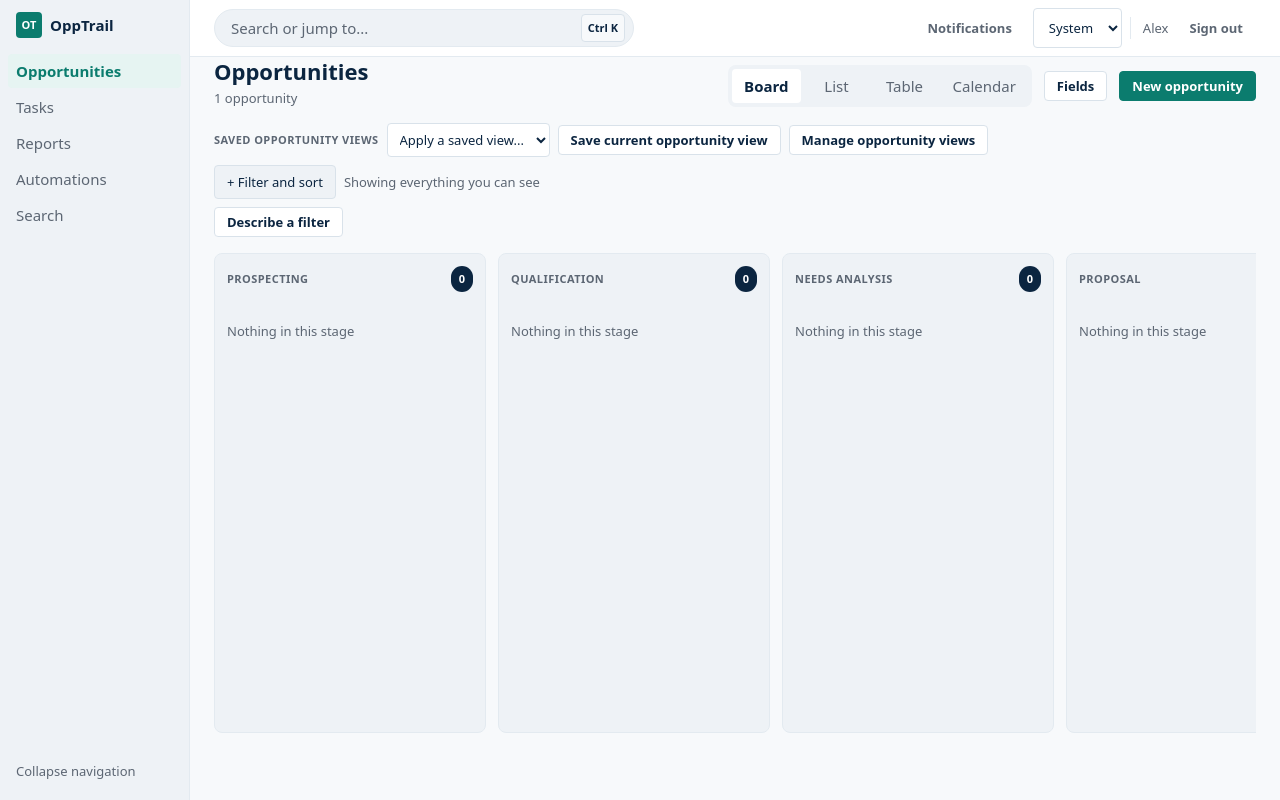
Scenario: defining and retiring a field › defines one from a label, deriving the key it is stored under
Expected: the heading "Opportunities" is shown, [214,57,368,85]
Step 1. Click the button "Fields" → [1076, 86], box [1044,71,1107,101]
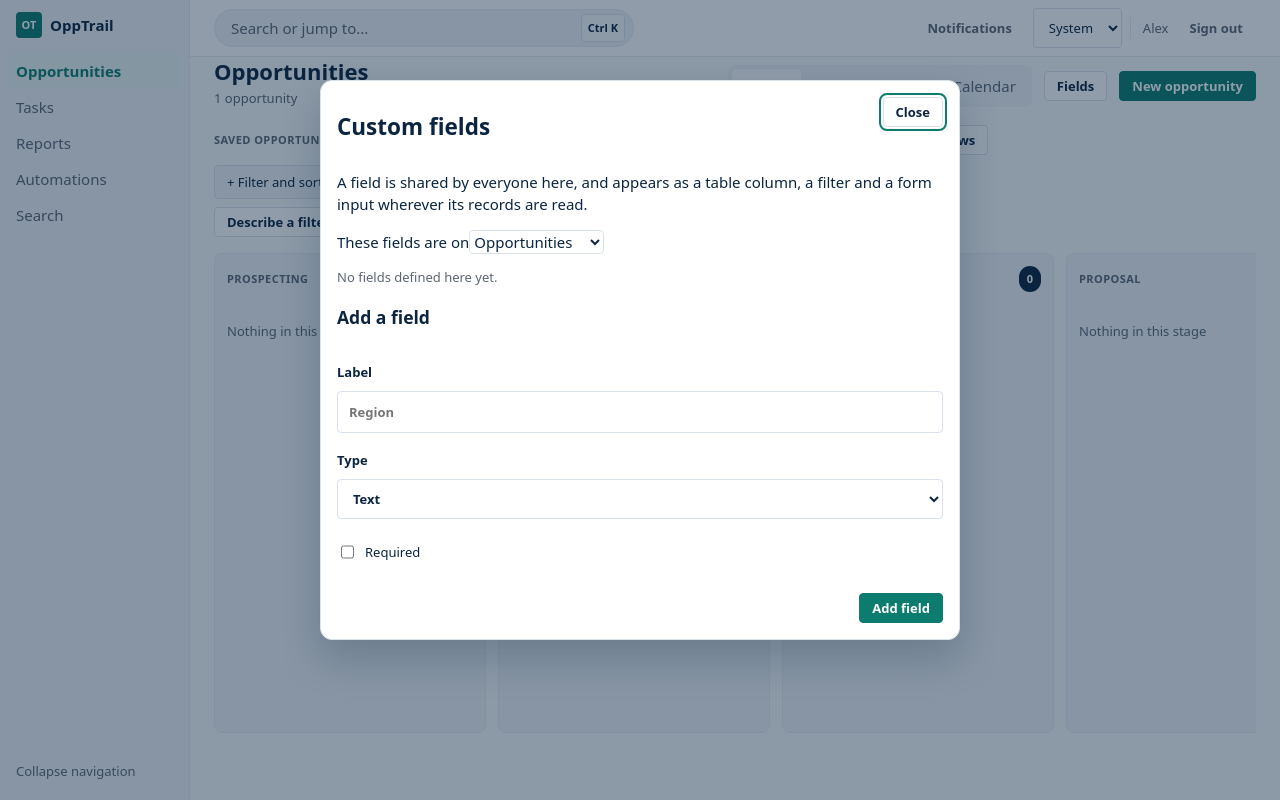
Step 2. Type "Deal source" into the field labelled "Label" → [640, 412], box [337,391,943,433]
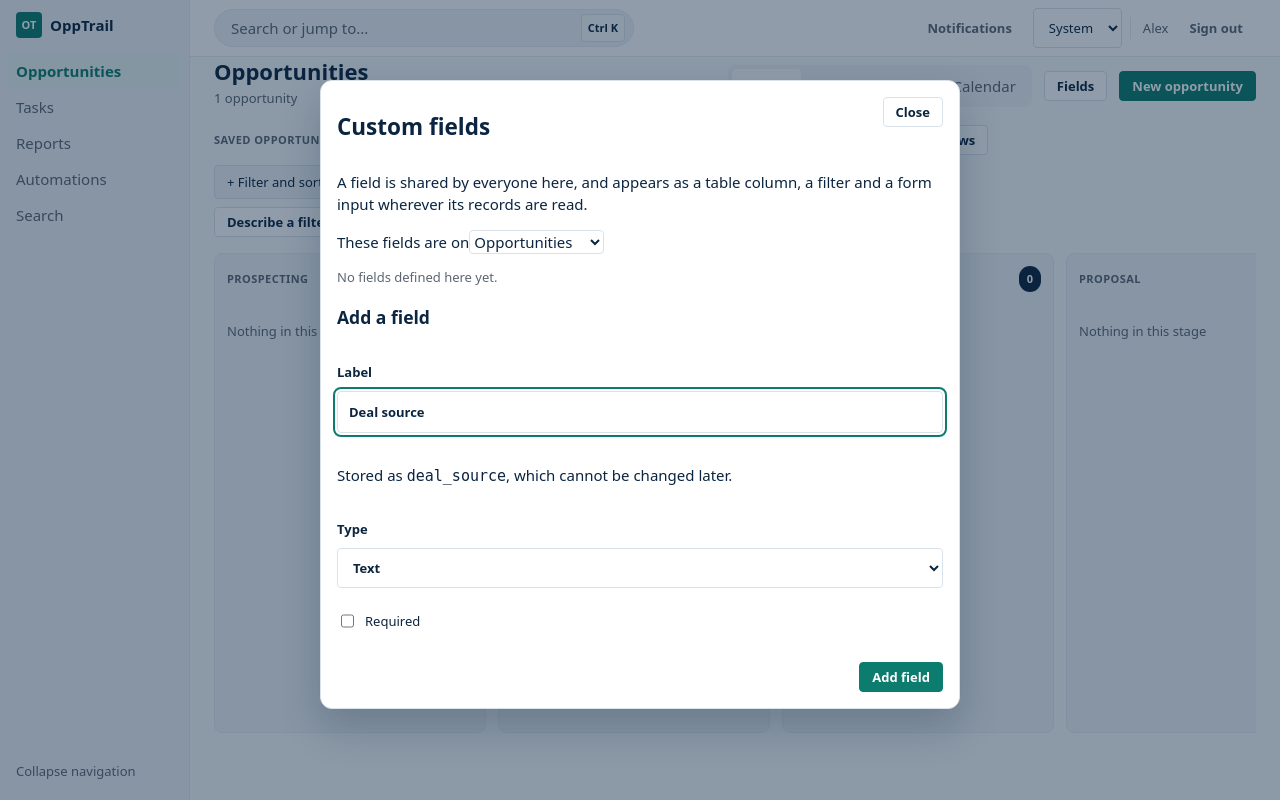
Expected: the text "deal_source" is shown, [407,467,506,485]
Step 3. Click the button "Add field" → [901, 677], box [859,662,943,692]
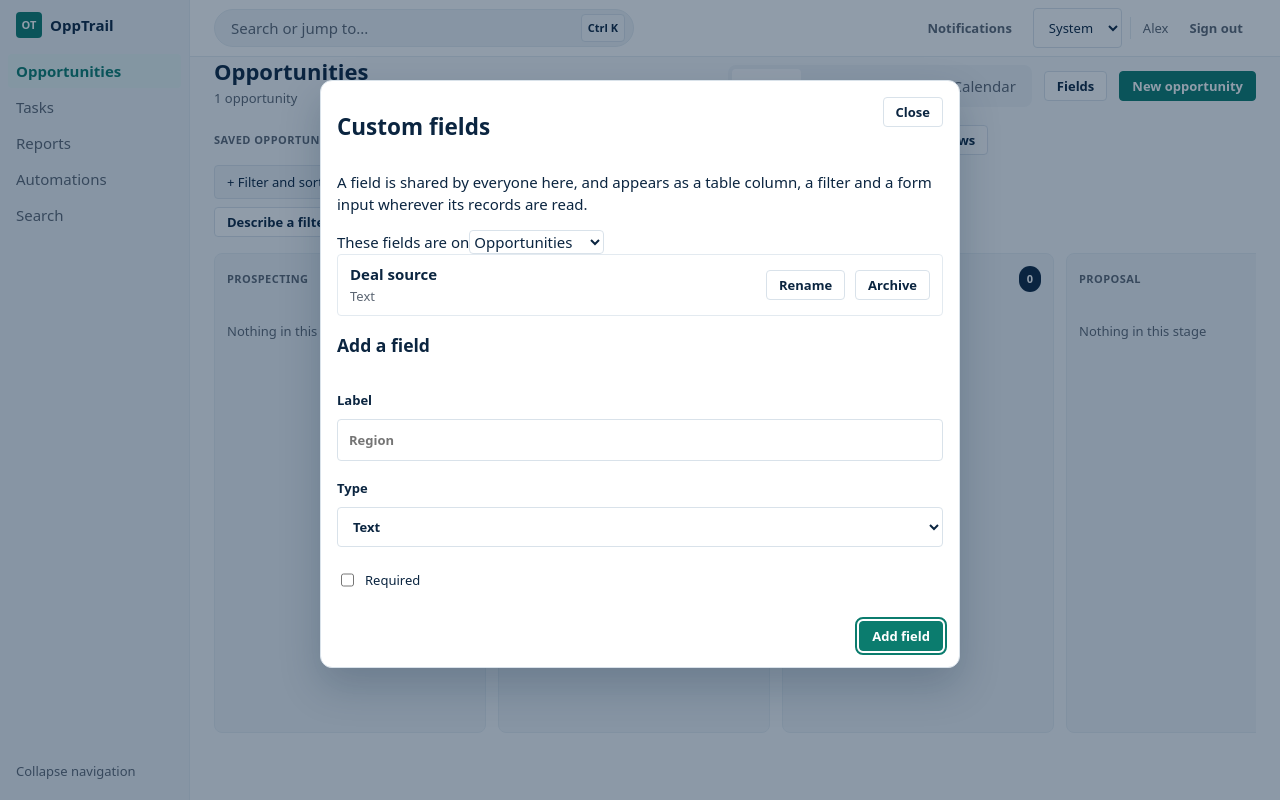
Expected: the text "Deal source" is shown, [350,263,437,285]
Step 4. Click the button "Close" → [913, 112], box [883,97,943,127]
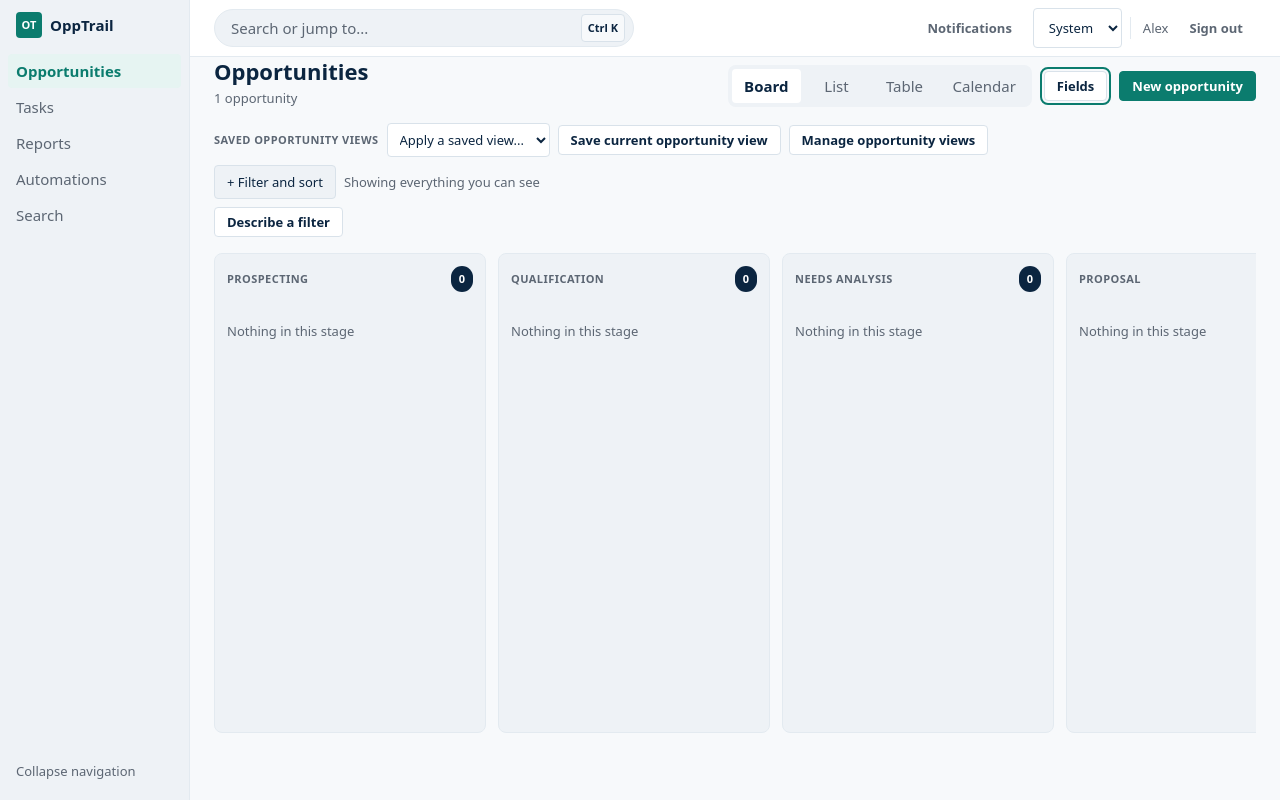
Step 5. Click the button "+ Filter and sort" → [275, 182], box [214,165,336,199]
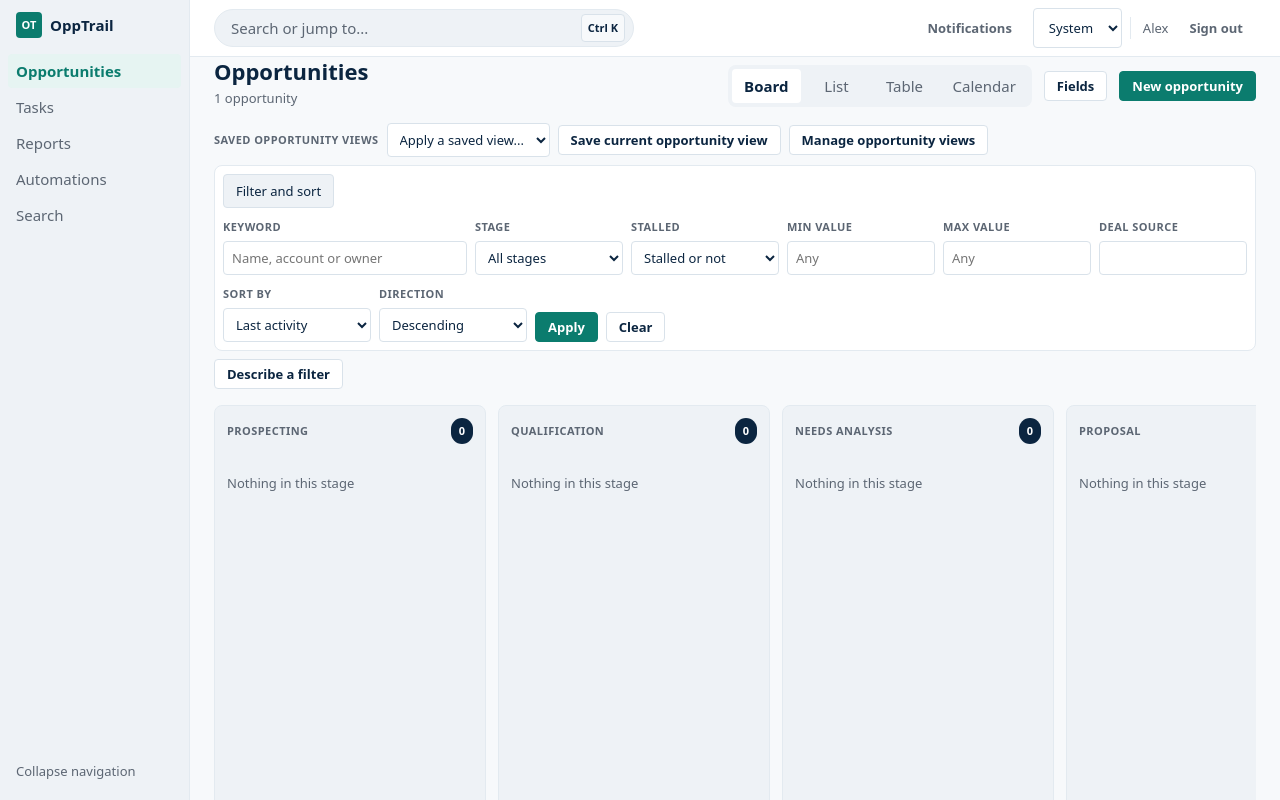
Expected: the field named "Filter opportunities by keyword" is shown, [223,241,467,275]
Expected: the field named "Filter by Deal source" is shown, [1099,241,1247,275]
